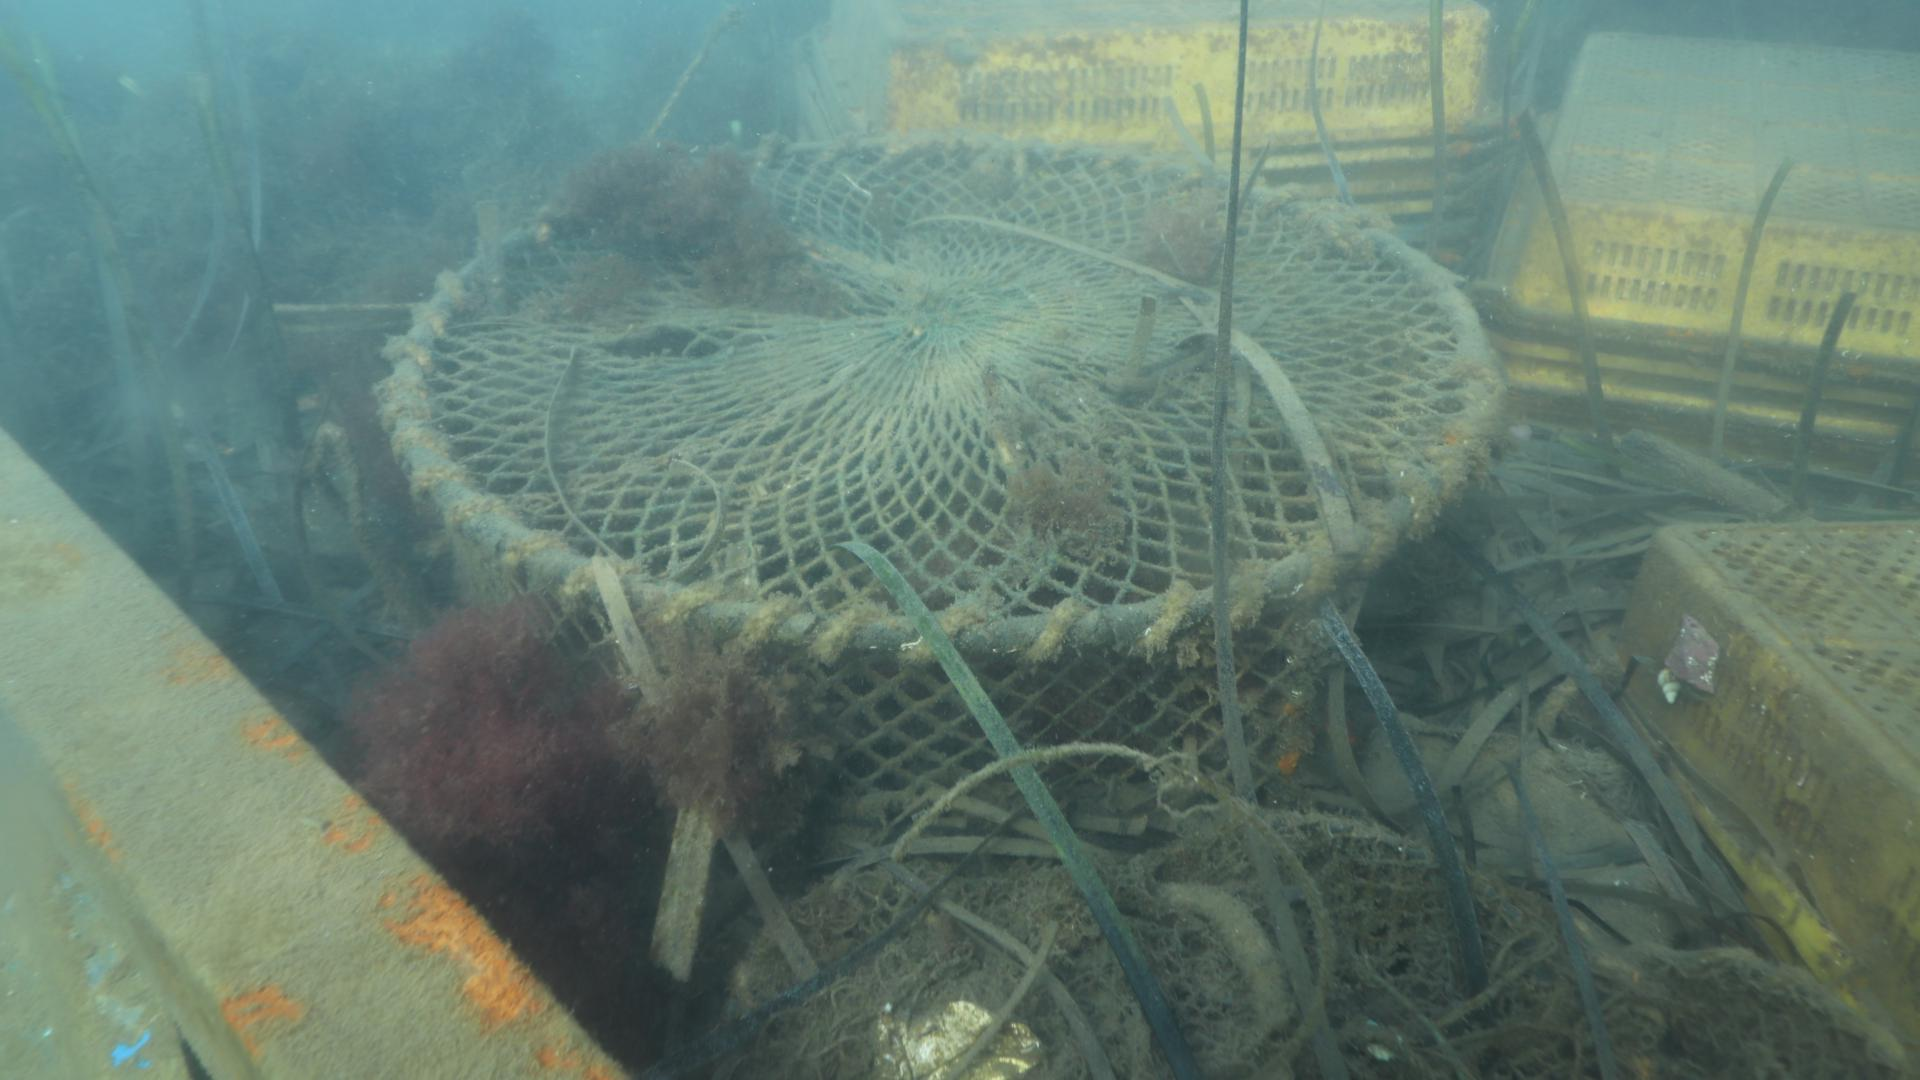circular fish trap: (378, 127, 1501, 795)
